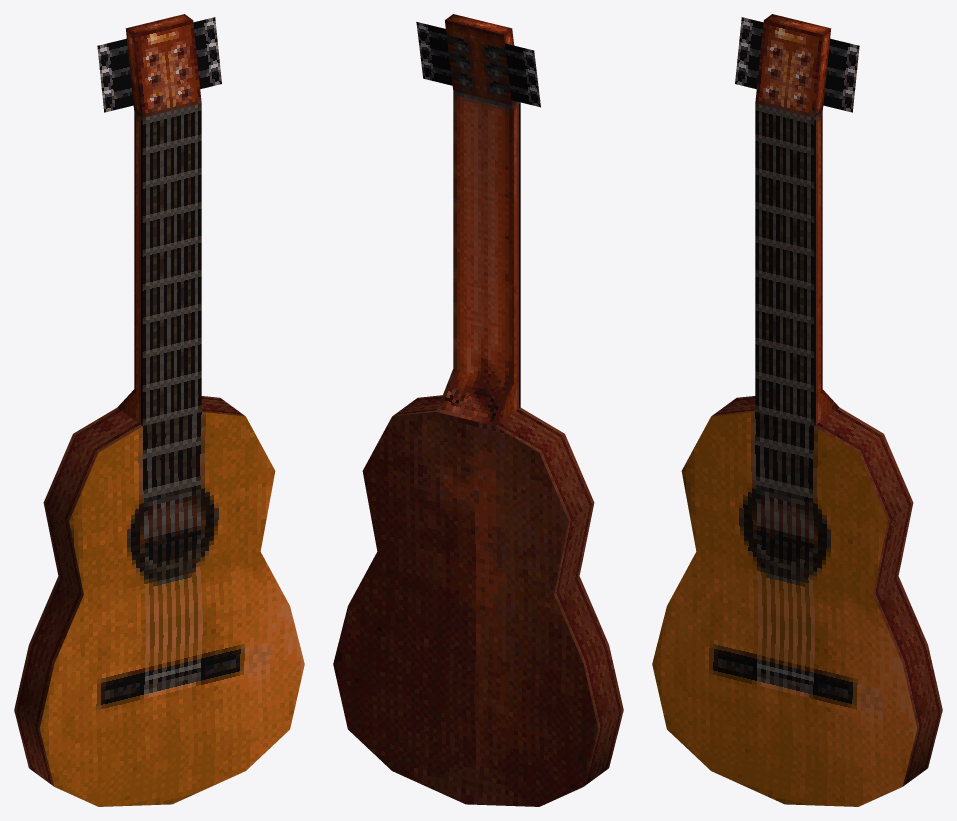
Rendered from psx_low-poly_acoustic_guitar.glb.
3 views of the same model, side by side, from view 1: azimuth 30°, elevation 25°; view 2: azimuth 150°, elevation 25°; view 3: azimuth 330°, elevation 25° (orthographic).
Visible parts, largest first — view 1: Acoustic Guitar, Tuners; view 2: Acoustic Guitar, Tuners; view 3: Acoustic Guitar, Tuners.
Part boxes in pixels (box(x1,y1,x2,y2)): Acoustic Guitar: box(14, 14, 304, 806); Tuners: box(97, 17, 221, 112); Acoustic Guitar: box(333, 14, 623, 806); Tuners: box(416, 22, 540, 107); Acoustic Guitar: box(652, 14, 942, 806); Tuners: box(735, 17, 859, 112).
Bounding box in the file's own units: 1.8 × 5 × 0.3.
1 material, 1 textured.
